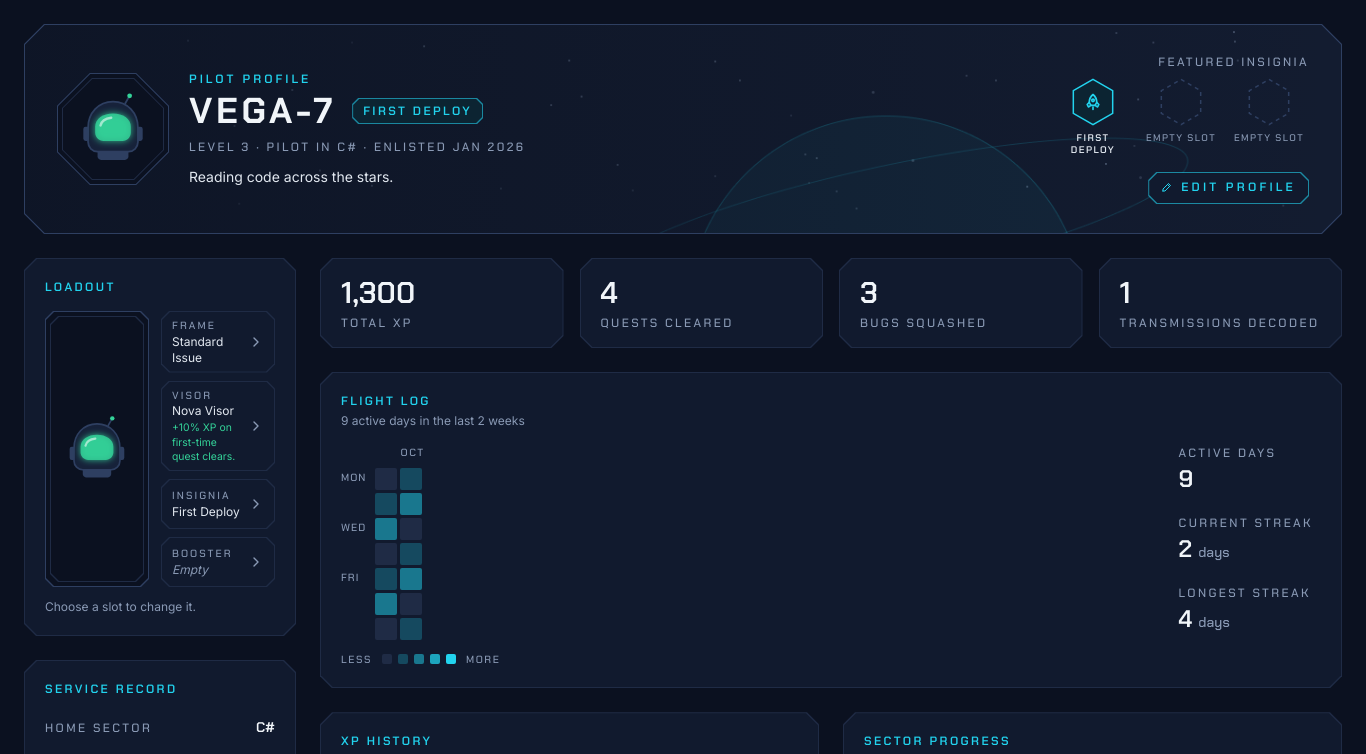
Test: ProfilePage › "Edit profile" opens the editor on the right field
Expected: the heading "Vega-7" is shown, 189,91 -> 336,131
Step 1. Click the button "Edit profile" → (1229, 188), box 1148,172 -> 1309,204
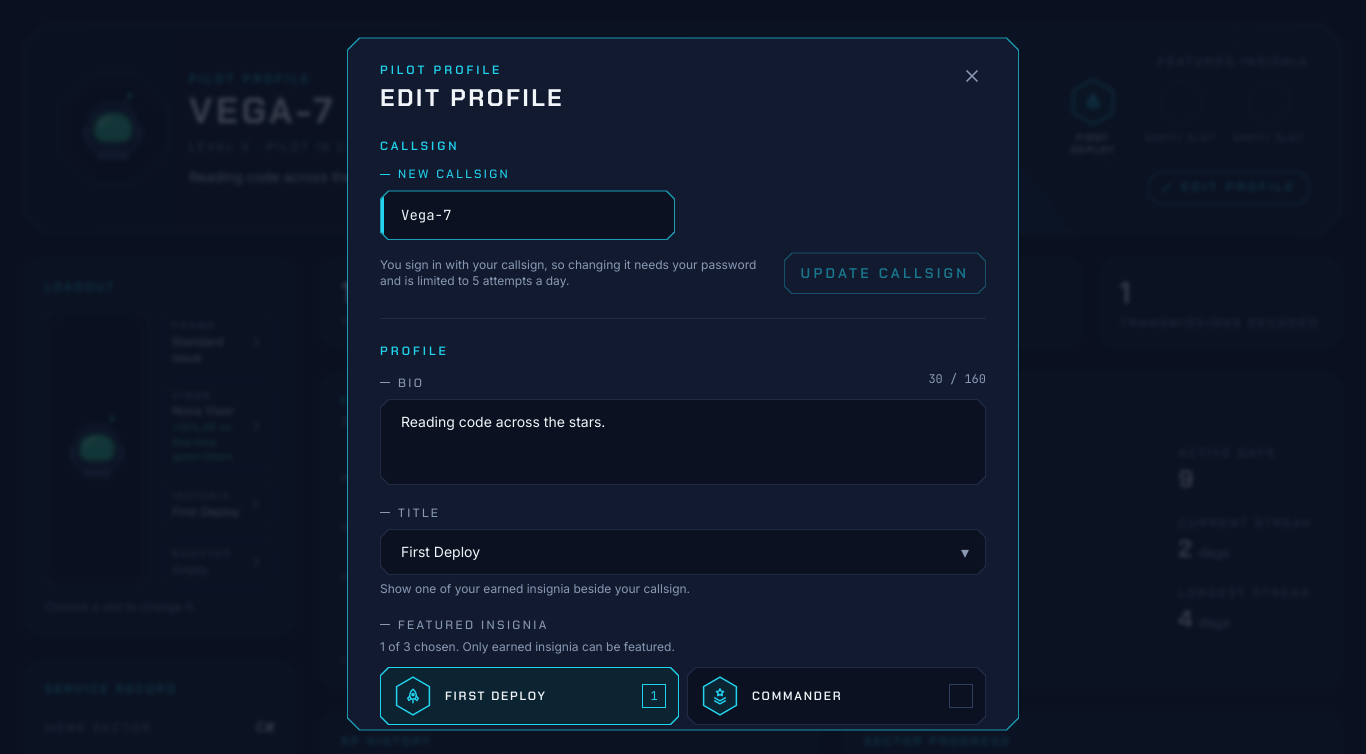
Expected: the dialog "Edit profile" is shown, 347,37 -> 1019,731
